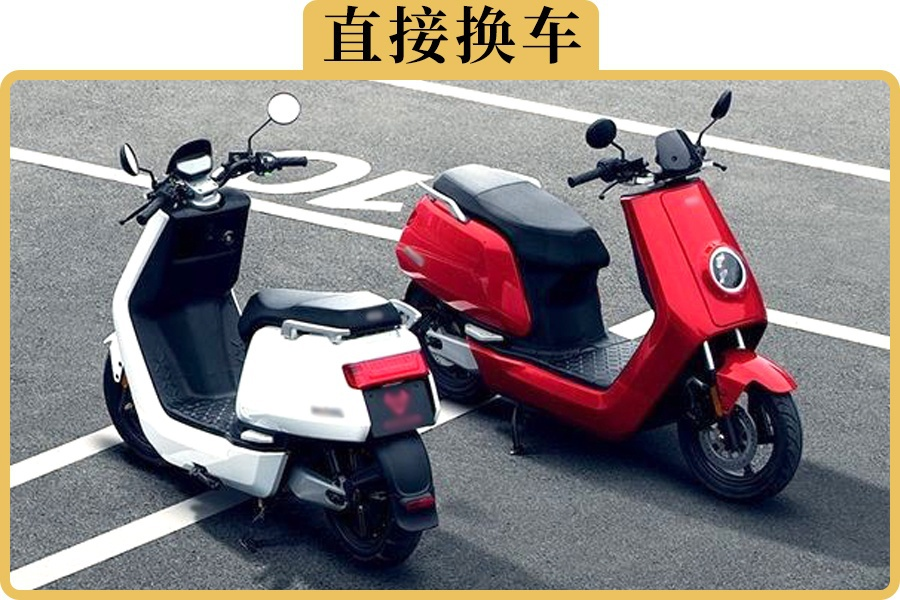non-vehicle: (404, 120, 803, 503), (101, 120, 440, 561)
